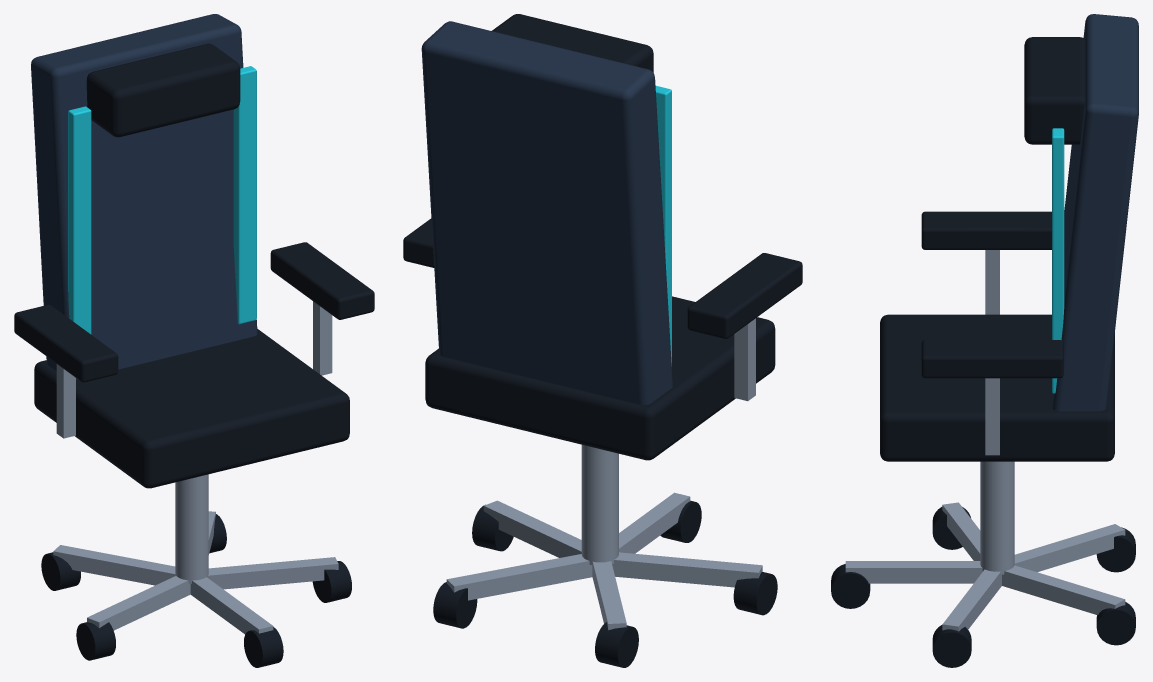
File: chair.glb
3 views of the same model, side by side, from view 1: azimuth 30°, elevation 25°; view 2: azimuth 150°, elevation 25°; view 3: azimuth 270°, elevation 25° (orthographic). The views are drawn at different scales.
Parts seen in each view (by area): view 1: SpinShop illustrative chair; view 2: SpinShop illustrative chair; view 3: SpinShop illustrative chair.
Boxes of the visible parts, <box> form: SpinShop illustrative chair: <box>14,14,374,667</box>; SpinShop illustrative chair: <box>403,14,802,667</box>; SpinShop illustrative chair: <box>831,14,1138,667</box>.
Bounding box in the file's own units: 0.71 × 1.23 × 0.629.
